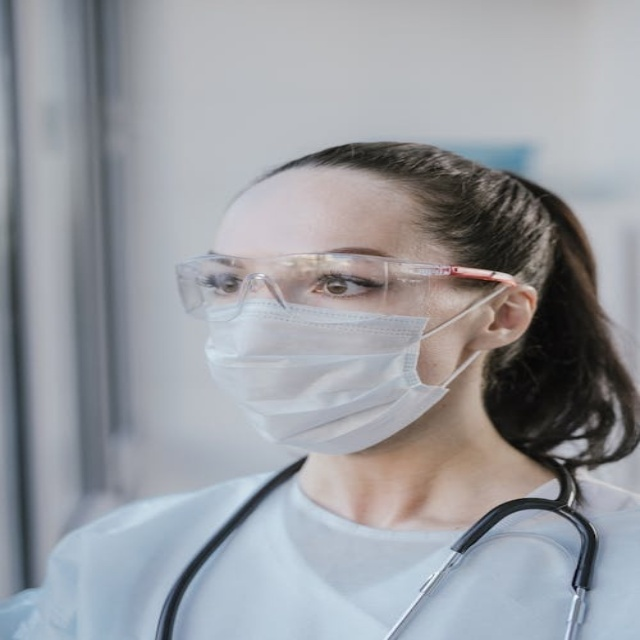Gafas: (169, 241, 521, 329)
Mascara: (187, 262, 503, 453)
